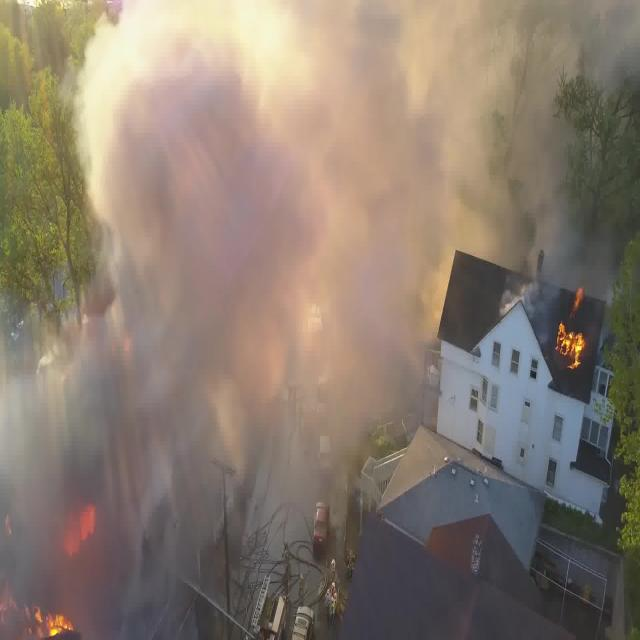Fire: (0, 437, 123, 639), (544, 279, 605, 388)
Smoke: (0, 0, 593, 640)
